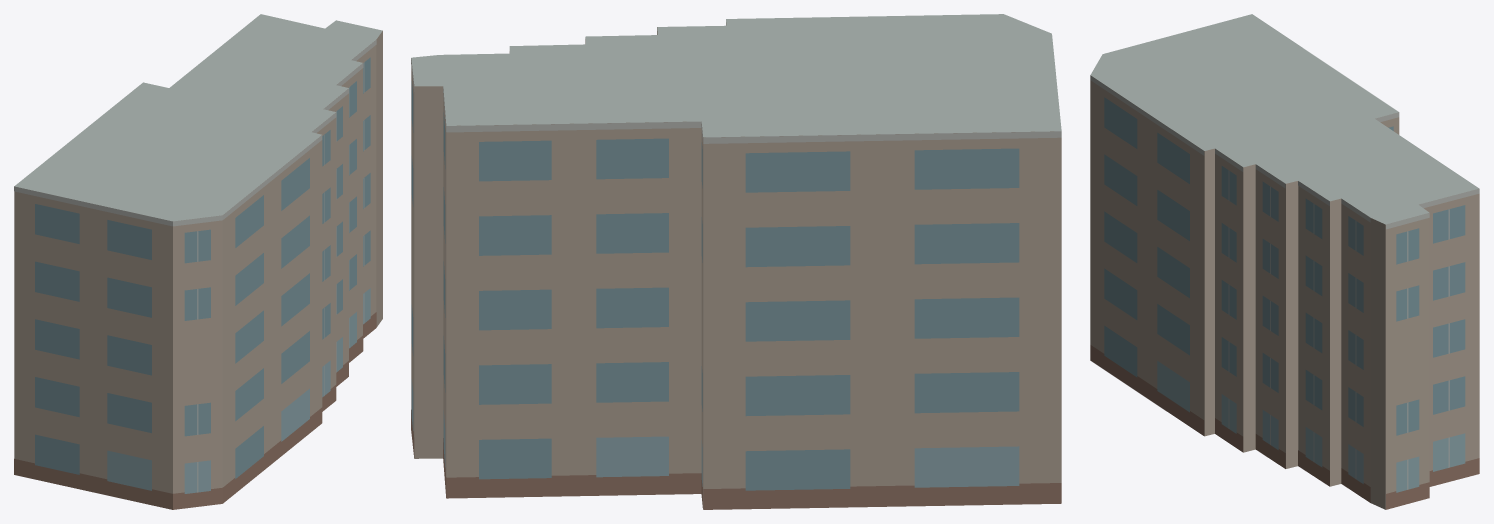
The model's file is survey-upis-32808587.glb.
3 renders of one model, left to right at view 1: azimuth 30°, elevation 25°; view 2: azimuth 150°, elevation 25°; view 3: azimuth 270°, elevation 25°, orthographic. The views are drawn at different scales.
Visible parts, largest first — view 1: survey-upis-32808587.tmp; view 2: survey-upis-32808587.tmp; view 3: survey-upis-32808587.tmp.
Boxes of the visible parts, box(x1,y1,x2,y2) form: survey-upis-32808587.tmp: box(14, 14, 382, 509); survey-upis-32808587.tmp: box(411, 14, 1061, 509); survey-upis-32808587.tmp: box(1090, 14, 1479, 509).
Bounding box in the file's own units: 22.17 × 14 × 17.32.
